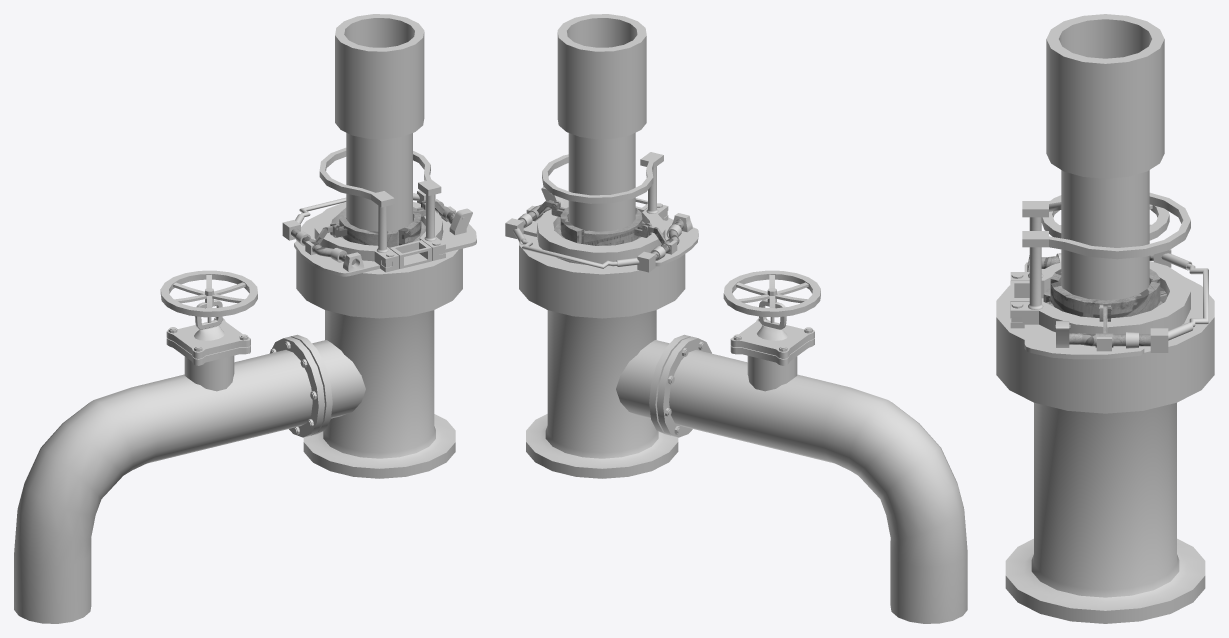
File: Priemnaya_ispr.fbx
3 views of the same model, side by side, from view 1: azimuth 30°, elevation 25°; view 2: azimuth 150°, elevation 25°; view 3: azimuth 270°, elevation 25° (orthographic). The views are drawn at different scales.
Visible parts, largest first — view 1: Truba, truba_dark, krasnaya, Rule, belaya, Priemnaya; view 2: Truba, truba_dark, krasnaya, Rule, belaya, Priemnaya; view 3: Truba, truba_dark, krasnaya, Priemnaya, Rule, belaya.
Part boxes in pixels (x1,y1,x2,y2): Truba: [14, 213, 462, 623]; truba_dark: [335, 14, 424, 245]; krasnaya: [282, 147, 476, 276]; Rule: [160, 270, 257, 340]; belaya: [291, 207, 397, 264]; Priemnaya: [398, 200, 455, 245]; Truba: [519, 206, 967, 623]; truba_dark: [557, 14, 646, 243]; krasnaya: [505, 152, 698, 272]; Rule: [723, 270, 820, 340]; belaya: [584, 208, 683, 260]; Priemnaya: [519, 200, 583, 243]; Truba: [996, 277, 1214, 623]; truba_dark: [1046, 14, 1164, 300]; krasnaya: [1010, 192, 1208, 359]; Priemnaya: [1046, 281, 1164, 347]; Rule: [1041, 195, 1169, 240]; belaya: [1041, 254, 1167, 302].
Size of the model in its own units: 686 by 739 by 225.
